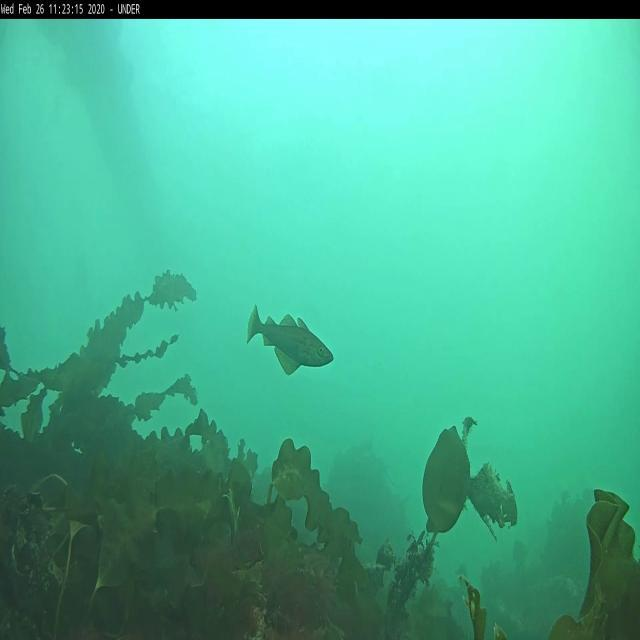fish: (247, 304, 334, 373)
